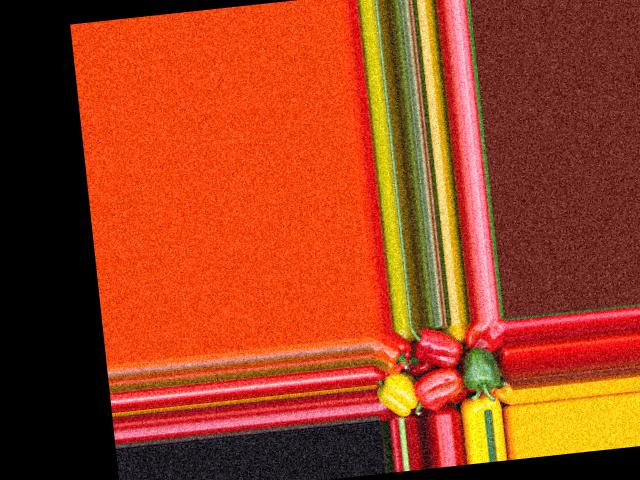bell_pepper: (375, 367, 422, 421)
